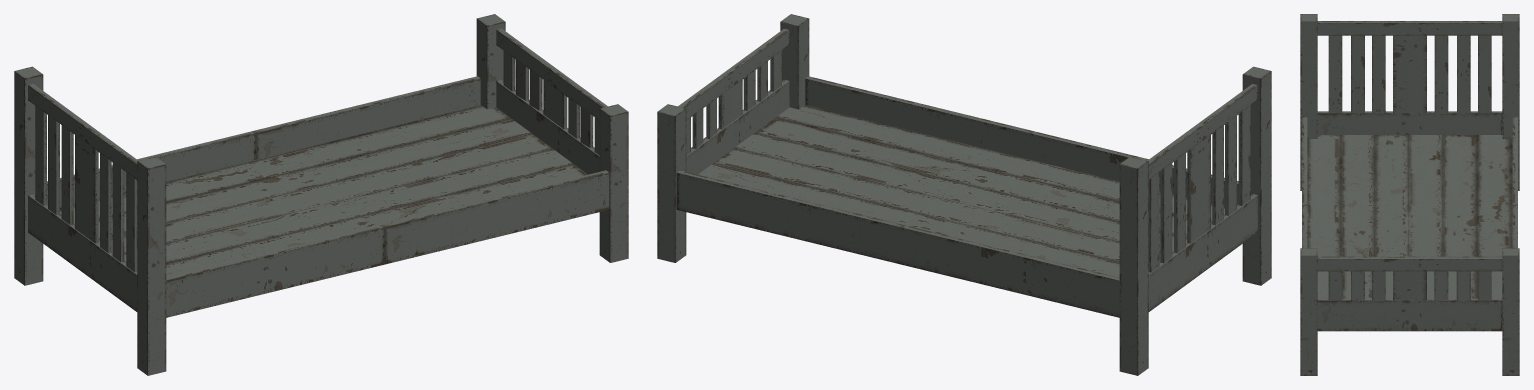
Rendered from SM_BedSingleA.FBX.
3 views of the same model, side by side, from view 1: azimuth 30°, elevation 25°; view 2: azimuth 150°, elevation 25°; view 3: azimuth 270°, elevation 25° (orthographic). The views are drawn at different scales.
Parts seen in each view (by area): view 1: SM_BedSingleA; view 2: SM_BedSingleA; view 3: SM_BedSingleA.
Boxes of the visible parts, x1,y1,x2,y2 form: SM_BedSingleA: [14, 14, 628, 375]; SM_BedSingleA: [657, 14, 1271, 375]; SM_BedSingleA: [1300, 14, 1519, 375].
Size of the model in its own units: 210 by 86.3 by 101.
